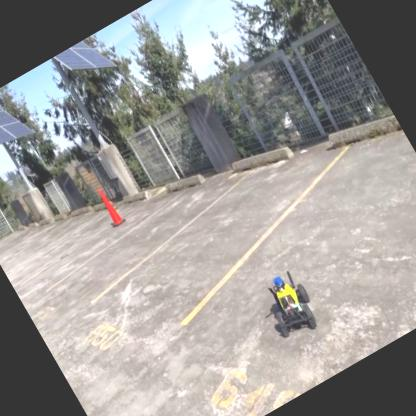cone: (93, 184, 130, 232)
mushr_car: (252, 262, 330, 350)
